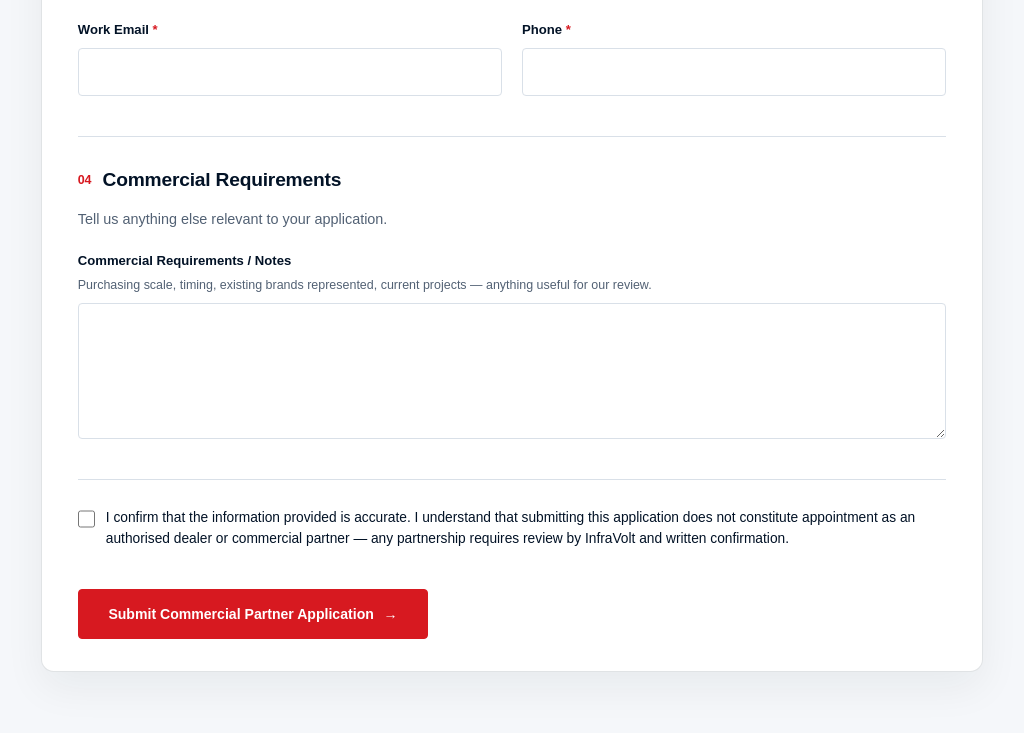
CommercialPartnerApplicationForm — required vs optional fields › requires company name, business type, partnership interest, coverage, territory scale, product systems, contact details and declaration
(page scrolled)
Click the button "Submit Commercial Partner Application →" at (253, 614), box [78, 589, 428, 639]
(page scrolled)
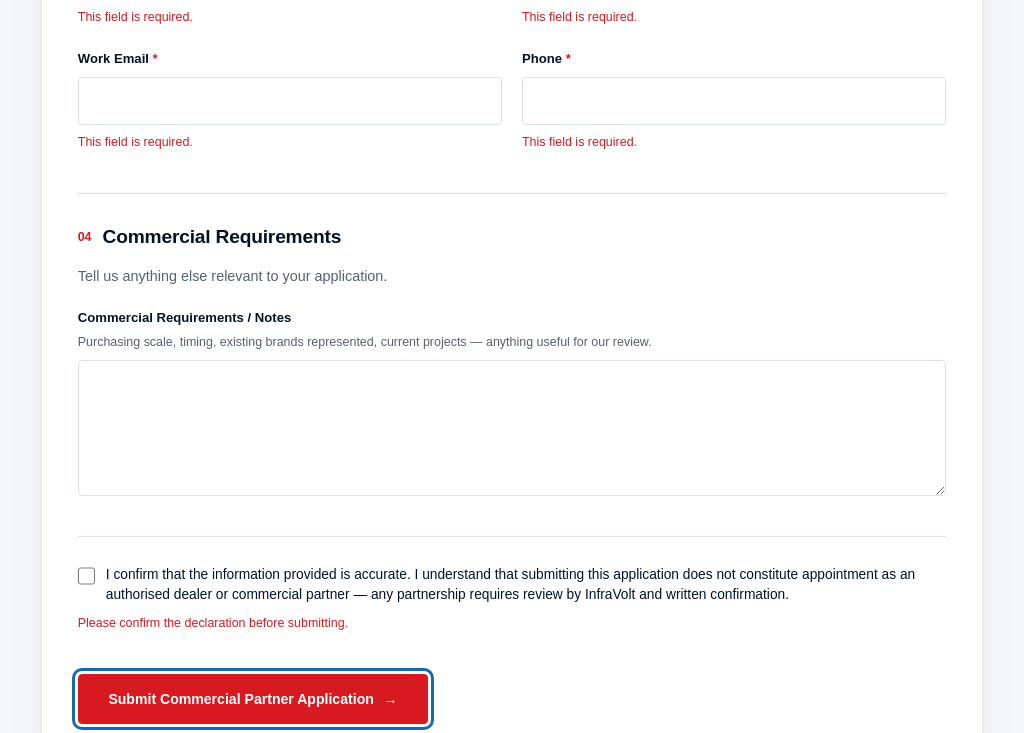
Now the text "Please confirm the declaration before submitting." is shown, box [78, 616, 348, 630]
